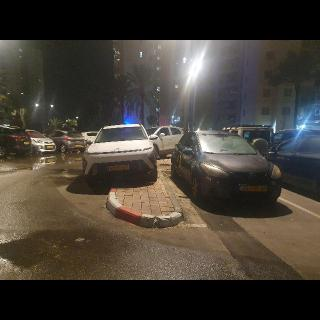LicensePlate: (242, 186, 267, 192), (109, 165, 130, 171)
